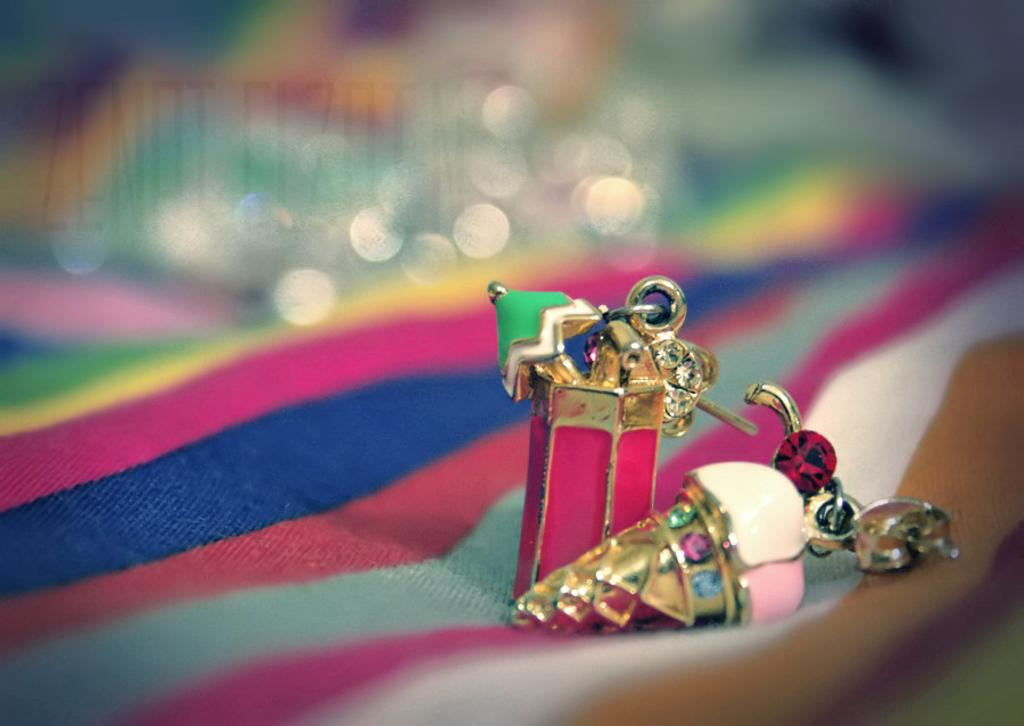earring: (492, 380, 961, 631)
